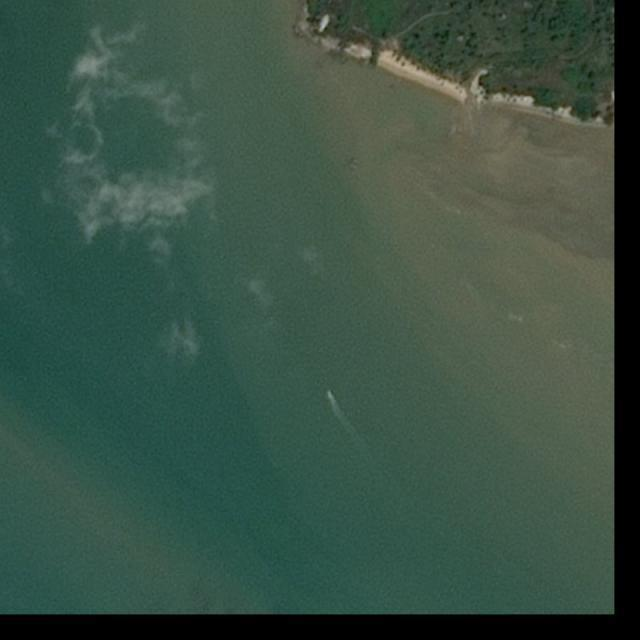ship: (326, 390, 333, 398)
